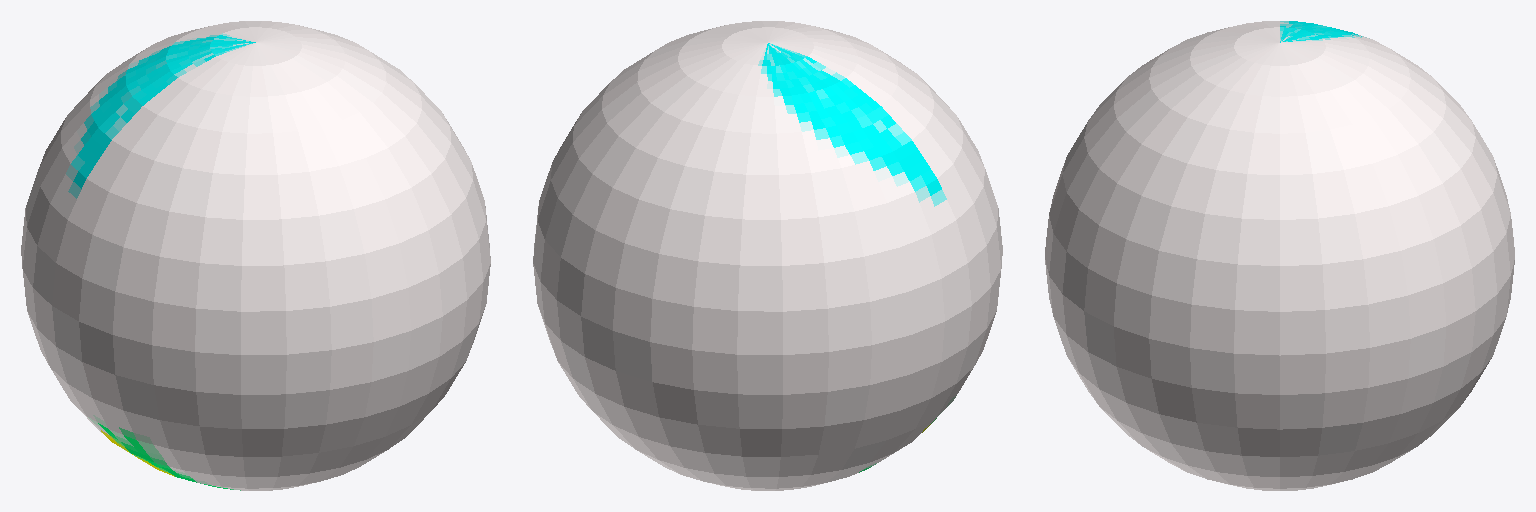
The picture shows the model from 3 angles: view 1: azimuth 30°, elevation 25°; view 2: azimuth 150°, elevation 25°; view 3: azimuth 270°, elevation 25°; orthographic projection.
Visible parts, largest first — view 1: 球; view 2: 球; view 3: 球.
Part boxes in pixels (left/top/right/bottom): 球: left=21, top=21, right=490, bottom=490; 球: left=533, top=21, right=1002, bottom=490; 球: left=1045, top=21, right=1514, bottom=490.
Size of the model in its own units: 2 by 2 by 2.
Materials: 1 (1 with a texture image).